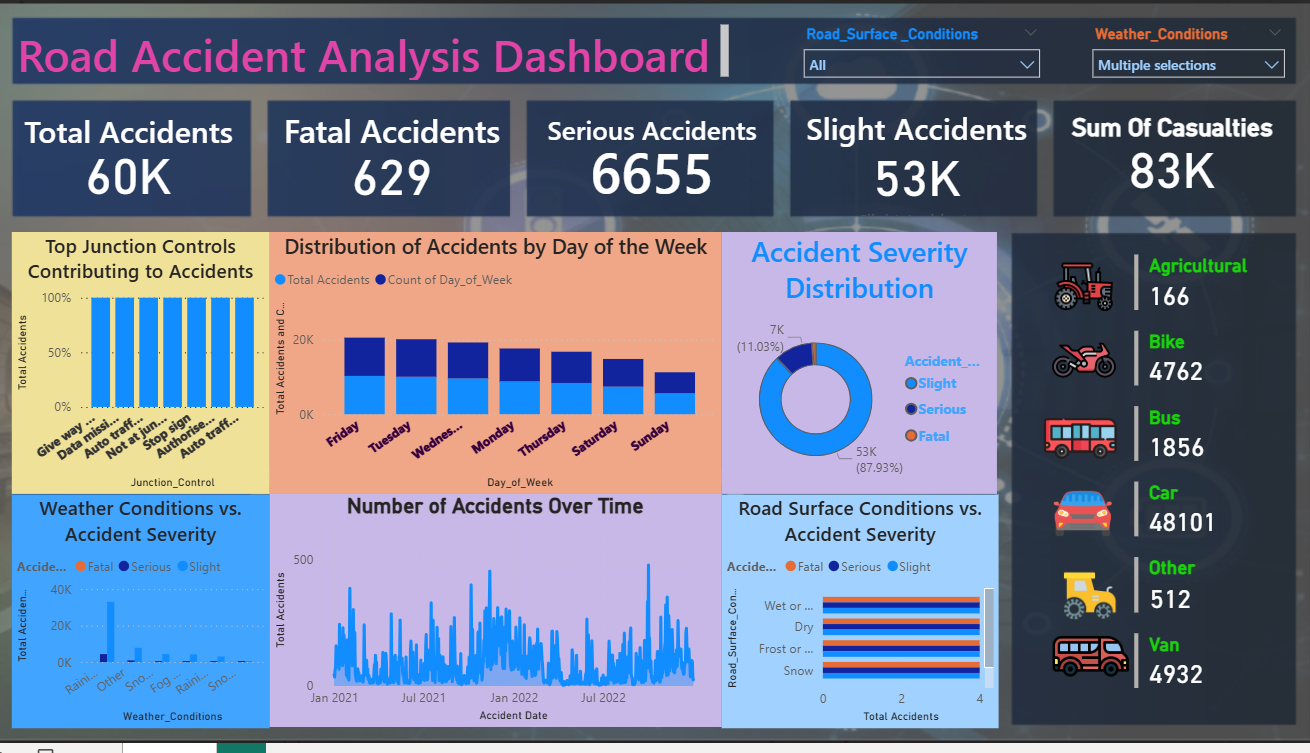

The dashboard page shown, as its layout file describes it:
{"tool":"powerbi","page":{"name":"Page 1","canvas":[1280,720],"ordinal":0},"visuals":[{"type":"textbox","box":[23.3,21.7,696.7,63.3],"z":0},{"type":"card","title":"Total Accidents ","fields":{"Values":["Data.Total Accidents"]},"box":[23.3,108.9,225.6,100],"z":1000},{"type":"card","title":"Fatal Accidents ","fields":{"Values":["Data.Fatal Accidents"]},"box":[272.2,108.9,234.4,100],"z":2000},{"type":"card","title":"Serious Accidents ","fields":{"Values":["Data.Serious Accidents"]},"box":[526.7,111.1,227.8,100],"z":3000},{"type":"card","title":"Slight Accidents","fields":{"Values":["Data.Slight Accidents"]},"box":[780,105.7,231.4,110],"z":4000},{"type":"donutChart","title":"Accident Severity Distribution","fields":{"Category":["Data.Accident_Severity"],"Y":["Data.Total Accidents"]},"box":[708.6,227.1,265.7,252.9],"z":5000},{"type":"areaChart","title":"Number of Accidents Over Time ","fields":{"Y":["Data.Total Accidents"],"Category":["Data.Accident Date"]},"box":[272,479.5,436.5,225.9],"z":6000},{"type":"columnChart","title":"Distribution of Accidents by Day of the Week","fields":{"Category":["Data.Day_of_Week"],"Y":["Data.Total Accidents","CountNonNull(Data.Day_of_Week)"]},"box":[271.4,227.1,437.1,252.9],"z":7000},{"type":"hundredPercentStackedColumnChart","title":"Top Junction Controls Contributing to Accidents ","fields":{"Category":["Data.Junction_Control"],"Y":["Data.Total Accidents"]},"box":[22.9,227.1,248.6,252.9],"z":8000},{"type":"clusteredColumnChart","title":"Weather Conditions vs. Accident Severity","fields":{"Category":["Data.Weather_Conditions"],"Series":["Data.Accident_Severity"],"Y":["Data.Total Accidents"]},"box":[22.9,480,248.6,225.7],"z":9000},{"type":"clusteredBarChart","title":"Road Surface Conditions vs. Accident Severity","fields":{"Category":["Data.Road_Surface_Conditions"],"Y":["Data.Total Accidents"],"Series":["Data.Accident_Severity"]},"box":[708.6,480,267.1,225.7],"z":10000},{"type":"multiRowCard","fields":{"Values":["Data.Vehicle_Type (groups)","Data.Total Accidents"]},"box":[1101.4,244.3,151.4,465.7],"z":11000},{"type":"image","box":[1012.9,314.3,88.6,71.4],"z":12000},{"type":"image","box":[1020,244.4,75.6,70],"z":13000},{"type":"image","box":[1020,592.9,90,88.6],"z":14000},{"type":"image","box":[1011.4,385.7,87.1,80],"z":15000},{"type":"image","box":[1022.9,465.7,67.1,65.7],"z":16000},{"type":"image","box":[1025.7,544.3,72.9,70],"z":17000},{"type":"card","title":"Sum Of Casualties ","fields":{"Values":["Sum(Data.Number_of_Casualties)"]},"box":[1025.6,113.3,235.6,95.6],"z":18000},{"type":"slicer","fields":{"Values":["Data.Weather_Conditions (groups)"]},"box":[1055.7,21.4,205.7,62.9],"z":18001},{"type":"slicer","fields":{"Values":["Data.Road_Surface_Conditions (groups)"]},"box":[777.1,21.4,248.6,62.9],"z":18002}]}

Visuals, with their boxes in screenshot pixels (x1, y1, x2, y2), scaled from the page's 1280x720 canvas onto the 1310x753 screenshot:
textbox: [x1=24, y1=23, x2=737, y2=89]
"Total Accidents " card: [x1=24, y1=114, x2=255, y2=218]
"Fatal Accidents " card: [x1=279, y1=114, x2=518, y2=218]
"Serious Accidents " card: [x1=539, y1=116, x2=772, y2=221]
"Slight Accidents" card: [x1=798, y1=111, x2=1035, y2=226]
"Accident Severity Distribution" donutChart: [x1=725, y1=238, x2=997, y2=502]
"Number of Accidents Over Time " areaChart: [x1=278, y1=501, x2=725, y2=738]
"Distribution of Accidents by Day of the Week" columnChart: [x1=278, y1=238, x2=725, y2=502]
"Top Junction Controls Contributing to Accidents " hundredPercentStackedColumnChart: [x1=23, y1=238, x2=278, y2=502]
"Weather Conditions vs. Accident Severity" clusteredColumnChart: [x1=23, y1=502, x2=278, y2=738]
"Road Surface Conditions vs. Accident Severity" clusteredBarChart: [x1=725, y1=502, x2=999, y2=738]
multiRowCard - Data.Vehicle_Type (groups) x Data.Total Accidents: [x1=1127, y1=255, x2=1282, y2=743]
image: [x1=1037, y1=329, x2=1127, y2=403]
image: [x1=1044, y1=256, x2=1121, y2=329]
image: [x1=1044, y1=620, x2=1136, y2=713]
image: [x1=1035, y1=403, x2=1124, y2=487]
image: [x1=1047, y1=487, x2=1116, y2=556]
image: [x1=1050, y1=569, x2=1124, y2=642]
"Sum Of Casualties " card: [x1=1050, y1=118, x2=1291, y2=218]
slicer - Data.Weather_Conditions (groups): [x1=1080, y1=22, x2=1291, y2=88]
slicer - Data.Road_Surface_Conditions (groups): [x1=795, y1=22, x2=1050, y2=88]
